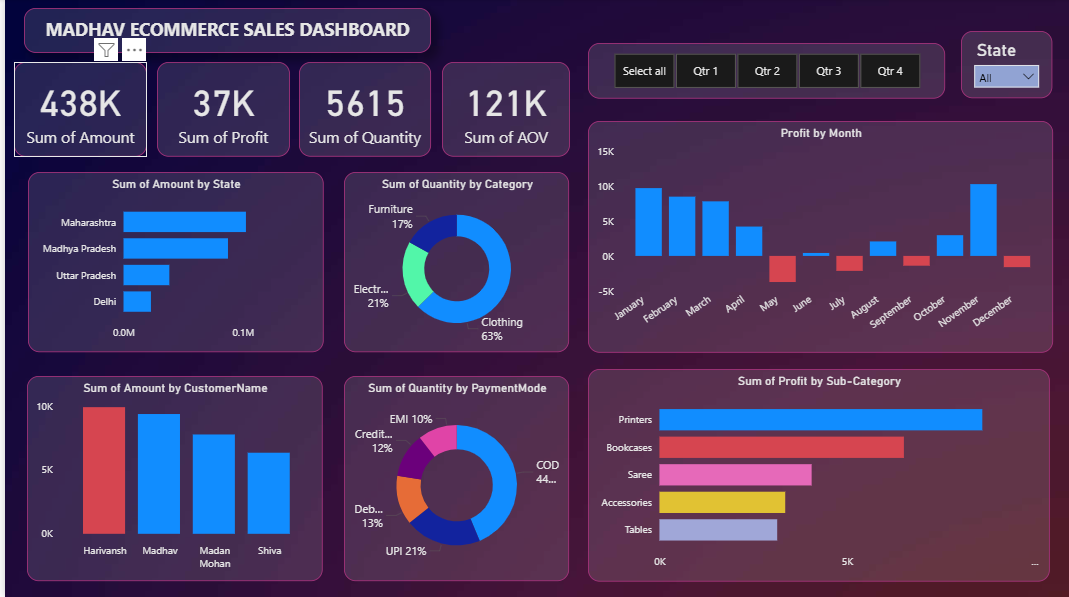

The dashboard page shown, as its layout file describes it:
{"tool":"powerbi","page":{"name":"Page 1","canvas":[1280,720],"ordinal":0},"visuals":[{"type":"textbox","box":[22.9,11.4,490,54.3],"z":0},{"type":"columnChart","title":" Profit by Month","fields":{"Category":["Orders.Order Date.Variation.Date Hierarchy.Month"],"Y":["Details.Profit"]},"box":[701.4,147.1,560,278.6],"z":1000},{"type":"barChart","fields":{"Category":["Details.Sub-Category"],"Y":["Details.Profit"]},"box":[701.4,445.7,555.7,255.7],"z":2000},{"type":"donutChart","fields":{"Category":["Details.Category"],"Y":["Details.Quantity"]},"box":[408.6,208.6,271.4,217.1],"z":3000},{"type":"donutChart","fields":{"Y":["Details.Quantity"],"Category":["Details.PaymentMode"]},"box":[408.6,454.3,271.4,247.1],"z":4000},{"type":"card","fields":{"Values":["Details.Amount"]},"box":[11.4,75.7,160,114.3],"z":5000},{"type":"card","fields":{"Values":["Details.Profit"]},"box":[182.9,75.7,160,114.3],"z":6000},{"type":"card","fields":{"Values":["Details.Quantity"]},"box":[354.3,75.7,158.6,114.3],"z":7000},{"type":"card","fields":{"Values":["Details.AOV"]},"box":[525.7,75.7,154.3,114.3],"z":8000},{"type":"barChart","fields":{"Category":["Orders.State"],"Y":["Details.Amount"]},"box":[27.1,208.6,355.7,217.1],"z":9000},{"type":"columnChart","fields":{"Category":["Orders.CustomerName"],"Y":["Details.Amount"]},"box":[27,454,356,247],"z":10000},{"type":"slicer","fields":{"Values":["Orders.Order Date.Variation.Date Hierarchy.Quarter"]},"box":[701.4,52.9,430,67.1],"z":11000},{"type":"slicer","fields":{"Values":["Orders.State"]},"box":[1151.4,38.6,110,81.4],"z":12000}]}

Visuals, with their boxes in screenshot pixels (x1, y1, x2, y2), scaled from the page's 1280x720 canvas onto the 1069x597 screenshot:
textbox: l=19, t=9, r=428, b=54
" Profit by Month" columnChart: l=586, t=122, r=1053, b=353
barChart - Details.Sub-Category x Details.Profit: l=586, t=370, r=1050, b=582
donutChart - Details.Category x Details.Quantity: l=341, t=173, r=568, b=353
donutChart - Details.Quantity x Details.PaymentMode: l=341, t=377, r=568, b=582
card - Details.Amount: l=10, t=63, r=143, b=158
card - Details.Profit: l=153, t=63, r=286, b=158
card - Details.Quantity: l=296, t=63, r=428, b=158
card - Details.AOV: l=439, t=63, r=568, b=158
barChart - Orders.State x Details.Amount: l=23, t=173, r=320, b=353
columnChart - Orders.CustomerName x Details.Amount: l=23, t=376, r=320, b=581
slicer - Orders.Order Date.Variation.Date Hierarchy.Quarter: l=586, t=44, r=945, b=100
slicer - Orders.State: l=962, t=32, r=1053, b=100
